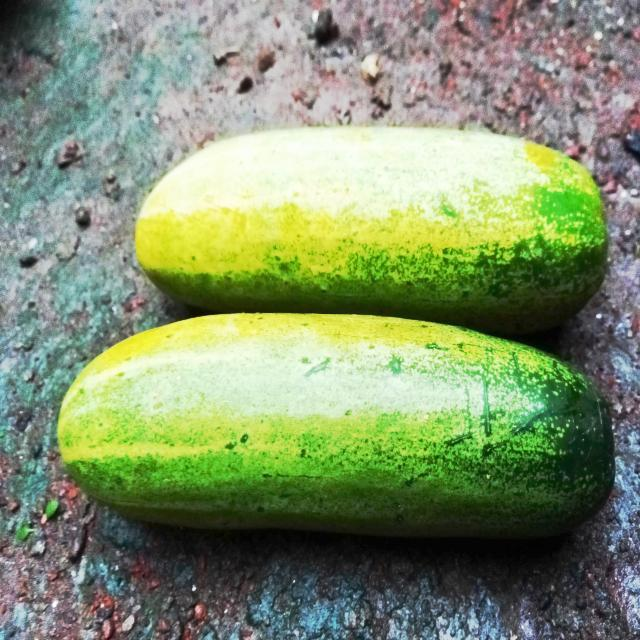Fresh-Cucumber: (57, 307, 618, 537), (133, 122, 611, 326)
